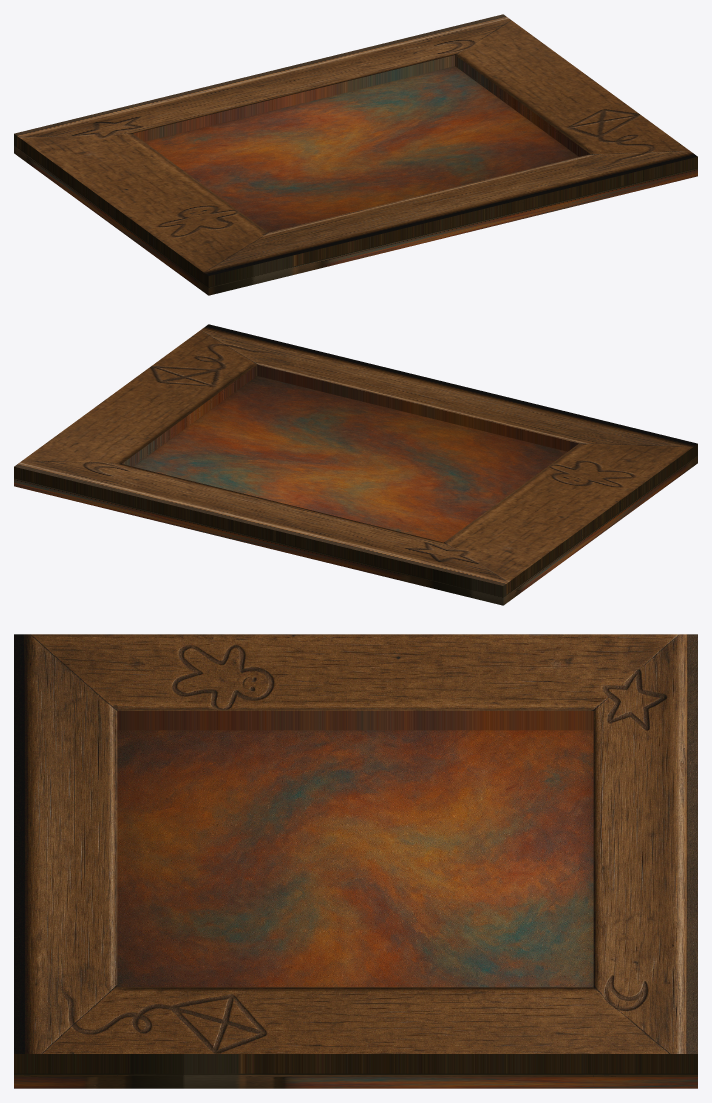
File: çocukluanı2.fbx
The picture shows the model from 3 angles, top to bottom: view 1: azimuth 30°, elevation 25°; view 2: azimuth 150°, elevation 25°; view 3: azimuth 270°, elevation 25°; orthographic projection. The views are drawn at different scales.
Parts seen in each view (by area): view 1: Çocukluk Anı 2; view 2: Çocukluk Anı 2; view 3: Çocukluk Anı 2.
Boxes of the visible parts, <box> form: Çocukluk Anı 2: <box>14,14,697,295</box>; Çocukluk Anı 2: <box>14,324,697,605</box>; Çocukluk Anı 2: <box>14,634,697,1088</box>.
Size of the model in its own units: 399 by 15.28 by 275.
